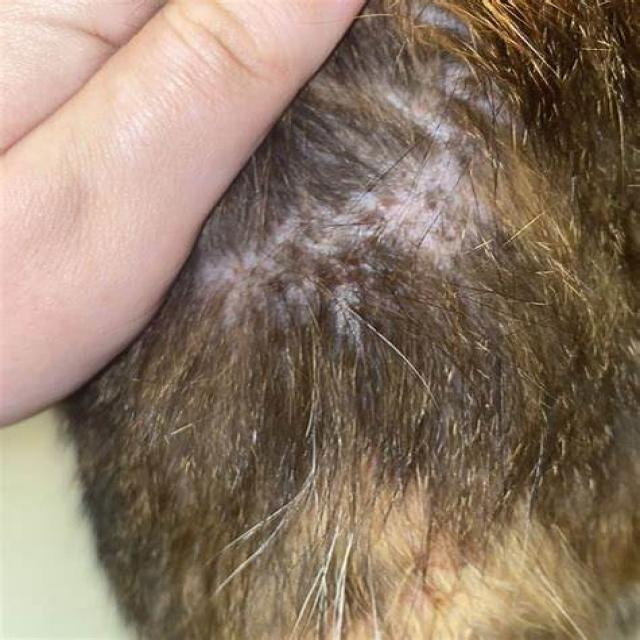di ung bo chet: (221, 46, 612, 431)
